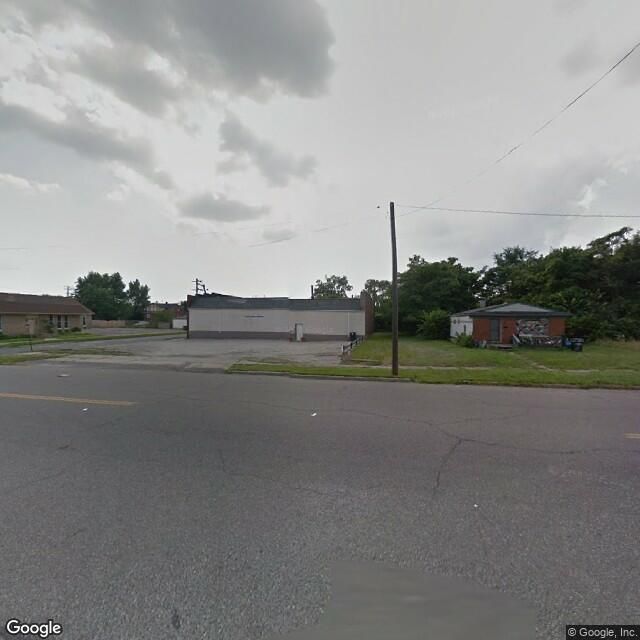litter: (471, 498, 480, 510), (311, 410, 317, 418)
